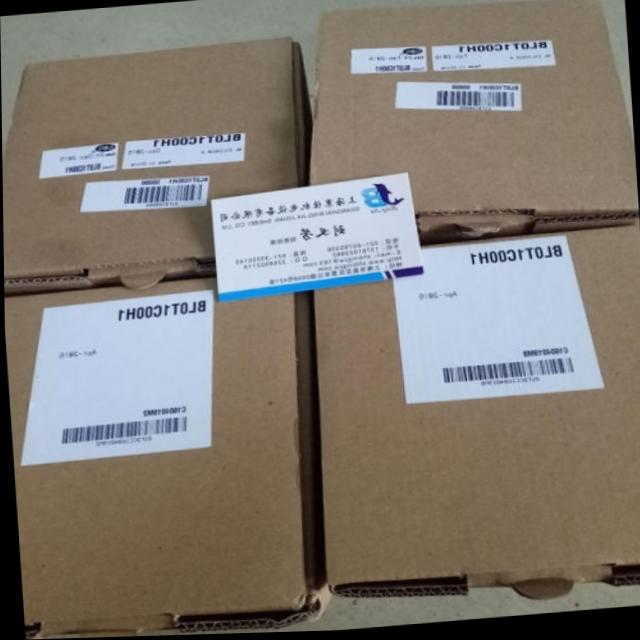box: (312, 226, 640, 604), (3, 278, 329, 640), (305, 0, 638, 247), (2, 36, 312, 298)
